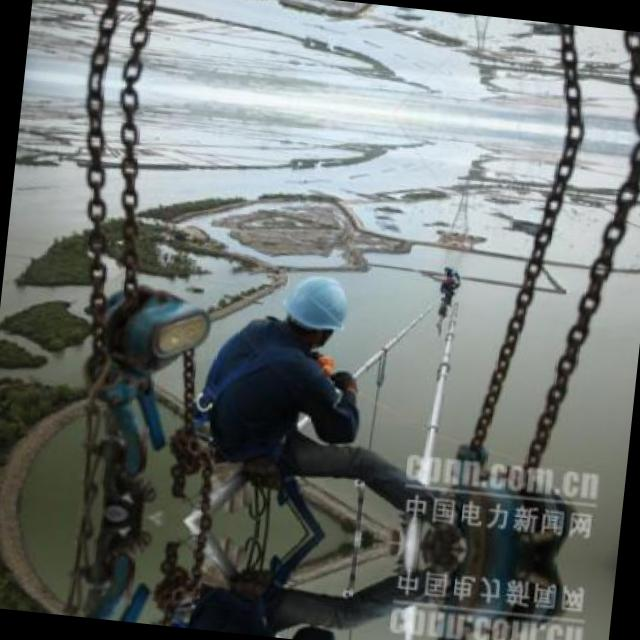helmet: (275, 270, 358, 350)
